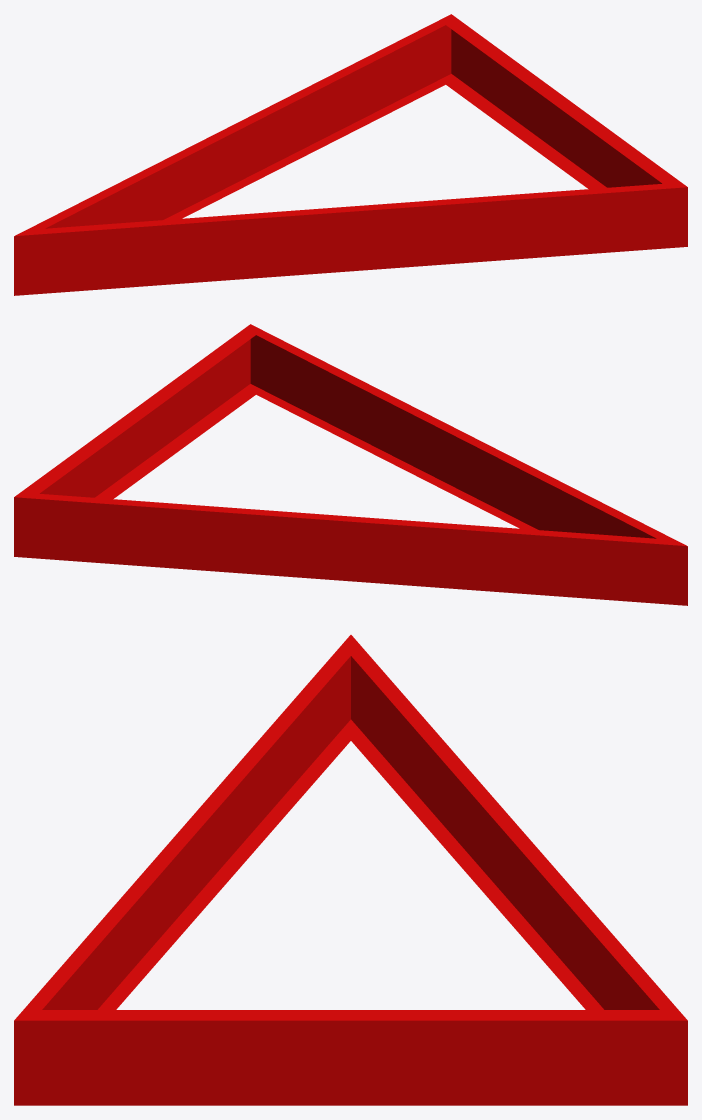
Rendered from pentaPiece.fbx.
3 renders of one model, top to bottom at view 1: azimuth 30°, elevation 25°; view 2: azimuth 150°, elevation 25°; view 3: azimuth 270°, elevation 25°, orthographic. The views are drawn at different scales.
Visible parts, largest first — view 1: pCylinder6; view 2: pCylinder6; view 3: pCylinder6.
Part boxes in pixels (x1=…): pCylinder6: x1=14, y1=14, x2=687, y2=295; pCylinder6: x1=14, y1=324, x2=687, y2=605; pCylinder6: x1=14, y1=635, x2=687, y2=1105.
Size of the model in its own units: 4.88 by 0.5 by 3.59.
